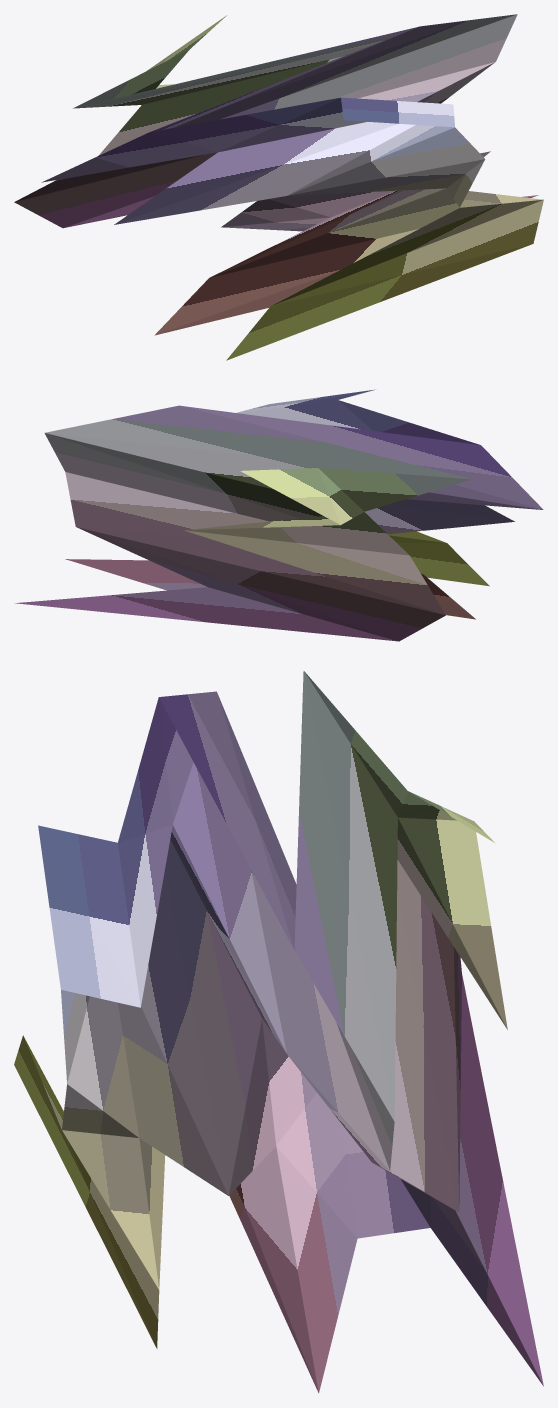
3 views of the same model, one above another, from view 1: azimuth 30°, elevation 25°; view 2: azimuth 150°, elevation 25°; view 3: azimuth 270°, elevation 25° (orthographic). The views are drawn at different scales.
Bounding box in the file's own units: 43.2 × 15.95 × 22.47.
Materials: 1 (1 with a texture image).
